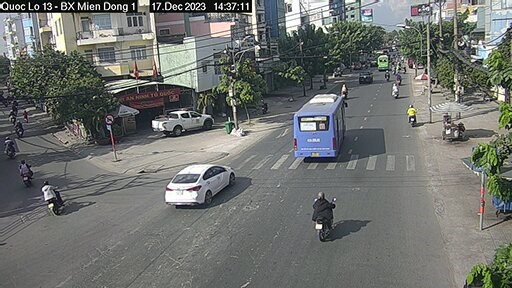bus: (288, 91, 349, 161), (377, 52, 389, 71)
car: (164, 159, 236, 208), (150, 108, 215, 136), (354, 67, 372, 85)
motorbike: (307, 198, 335, 239), (46, 182, 66, 220), (16, 159, 40, 187), (405, 104, 419, 125), (386, 83, 397, 97)
